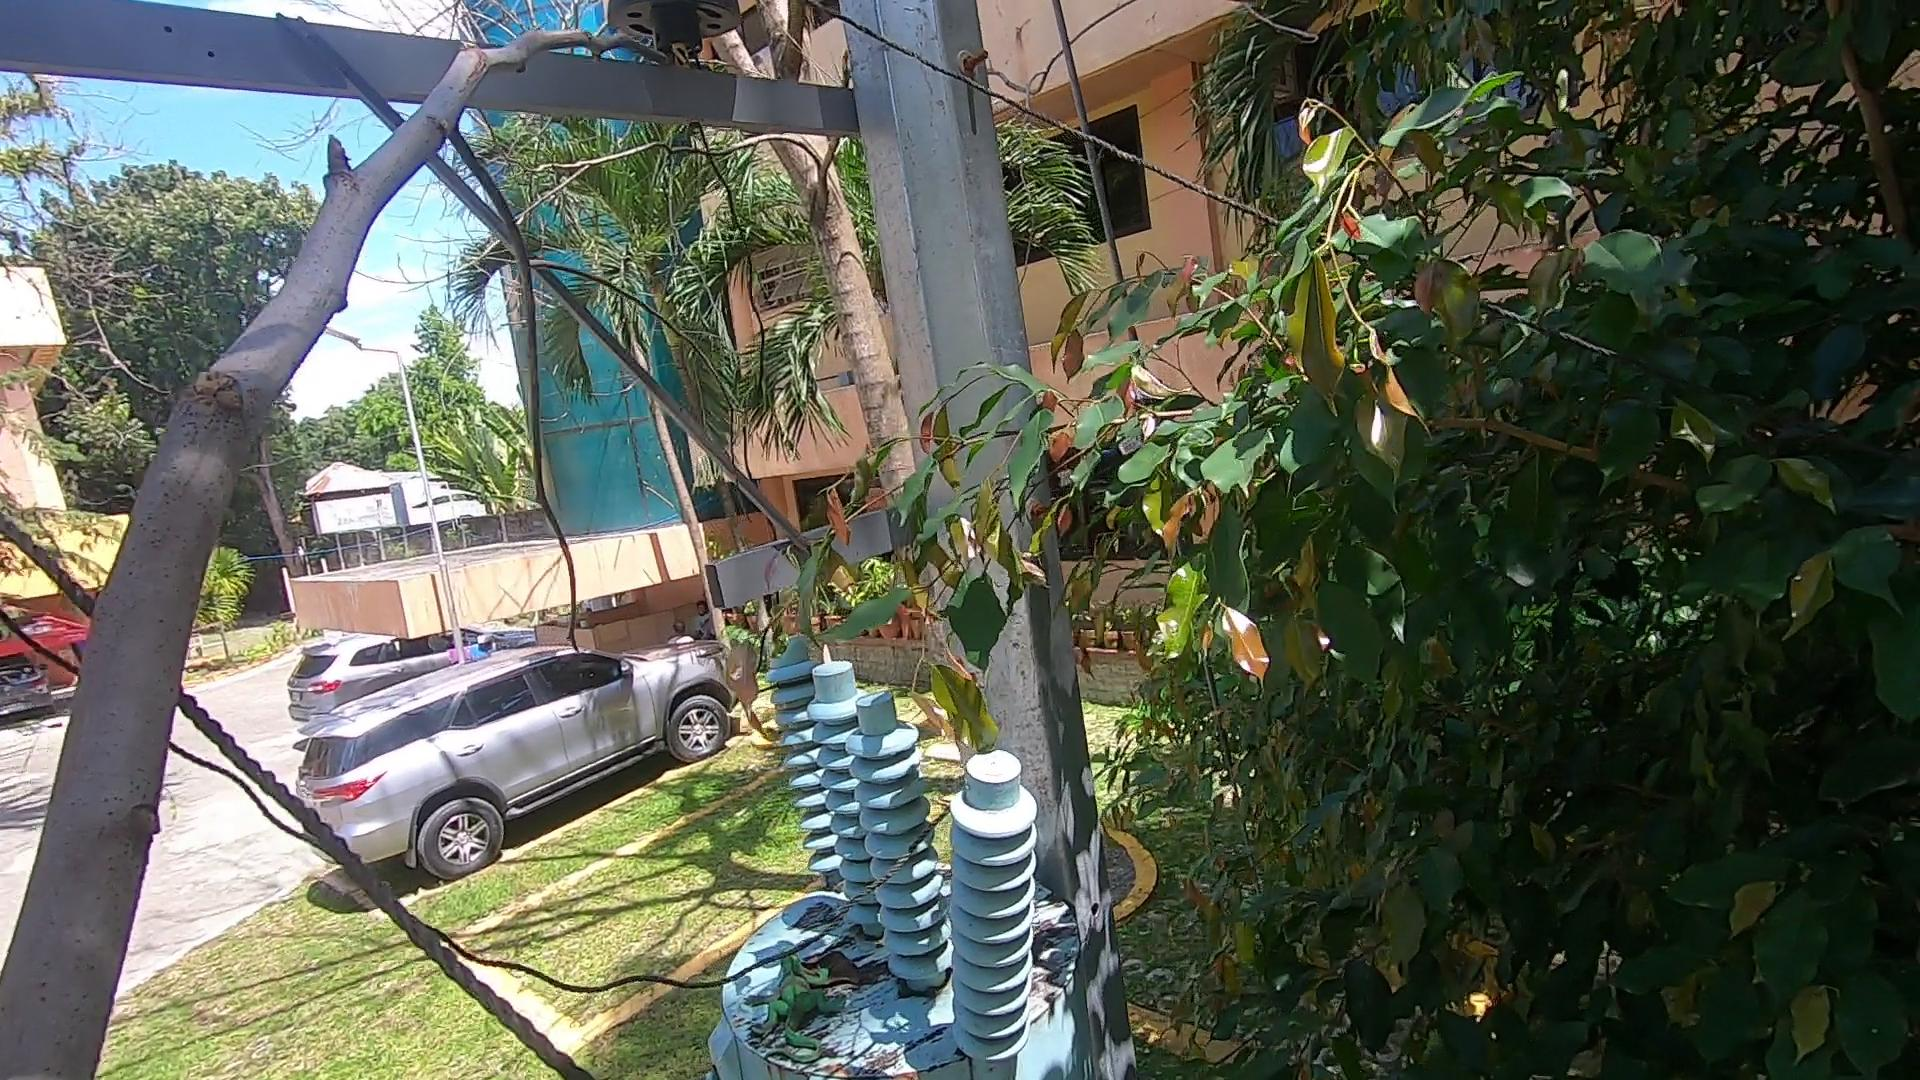branch with leaves: (724, 440, 1087, 765)
leaf: (783, 928, 903, 993), (1031, 913, 1077, 963)
tree branch: (4, 7, 745, 1048)
